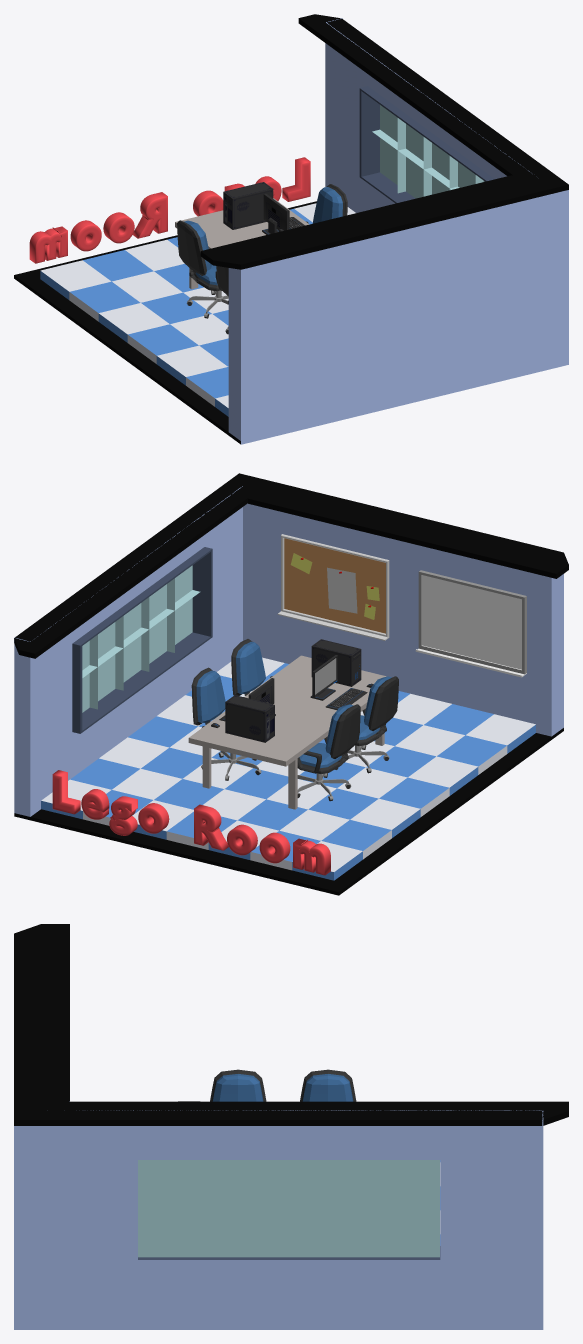
Rendered from cuartoIndividualLegoRoom.glb.
3 views of the same model, one above another, from view 1: azimuth 30°, elevation 25°; view 2: azimuth 150°, elevation 25°; view 3: azimuth 270°, elevation 25° (orthographic). The views are drawn at different scales.
Parts seen in each view (by area): view 1: Cuarto, texto_LegoRoom, Ventana, OfficeChair.002, System_unit.001, Mesa, OfficeChair, Monitor.001; view 2: Cuarto, PizarronBlanco, PizarronDeCorcho, Mesa, Ventana, texto_LegoRoom, OfficeChair.002, OfficeChair.003, OfficeChair, System_unit.001, OfficeChair.001, System_unit (+1 smaller); view 3: Cuarto, Ventana, OfficeChair.003, OfficeChair.002.
Part boxes in pixels (x1=…): Cuarto: x1=14, y1=14, x2=568, y2=444; texto_LegoRoom: x1=29, y1=157, x2=310, y2=263; Ventana: x1=372, y1=105, x2=484, y2=198; OfficeChair.002: x1=177, y1=220, x2=228, y2=318; System_unit.001: x1=223, y1=182, x2=273, y2=229; Mesa: x1=175, y1=198, x2=309, y2=289; OfficeChair: x1=306, y1=184, x2=347, y2=223; Monitor.001: x1=262, y1=193, x2=289, y2=234; Cuarto: x1=14, y1=473, x2=568, y2=895; PizarronBlanco: x1=415, y1=570, x2=526, y2=677; PizarronDeCorcho: x1=277, y1=534, x2=389, y2=640; Mesa: x1=188, y1=655, x2=386, y2=809; Ventana: x1=82, y1=565, x2=200, y2=712; texto_LegoRoom: x1=52, y1=770, x2=330, y2=875; OfficeChair.002: x1=297, y1=704, x2=360, y2=801; OfficeChair.003: x1=335, y1=676, x2=398, y2=773; OfficeChair: x1=191, y1=667, x2=261, y2=780; System_unit.001: x1=225, y1=695, x2=274, y2=742; OfficeChair.001: x1=231, y1=639, x2=272, y2=695; System_unit: x1=311, y1=639, x2=361, y2=686; Cuarto: x1=14, y1=924, x2=568, y2=1329; Ventana: x1=138, y1=1160, x2=439, y2=1257; OfficeChair.003: x1=210, y1=1069, x2=266, y2=1101; OfficeChair.002: x1=300, y1=1069, x2=356, y2=1101.
Size of the model in its own units: 21.05 by 10.5 by 25.16.
27 materials, 3 textured.
